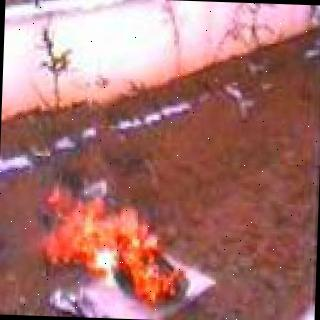fire: (41, 186, 192, 307)
